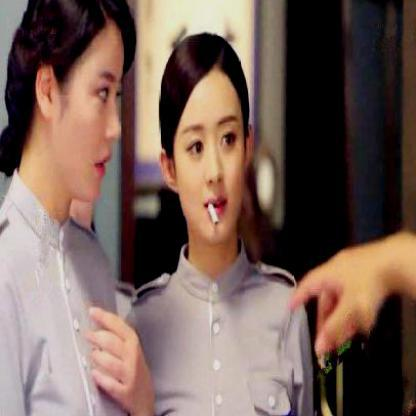cigarette: (206, 202, 220, 229)
person: (0, 0, 155, 415), (125, 37, 288, 415)
